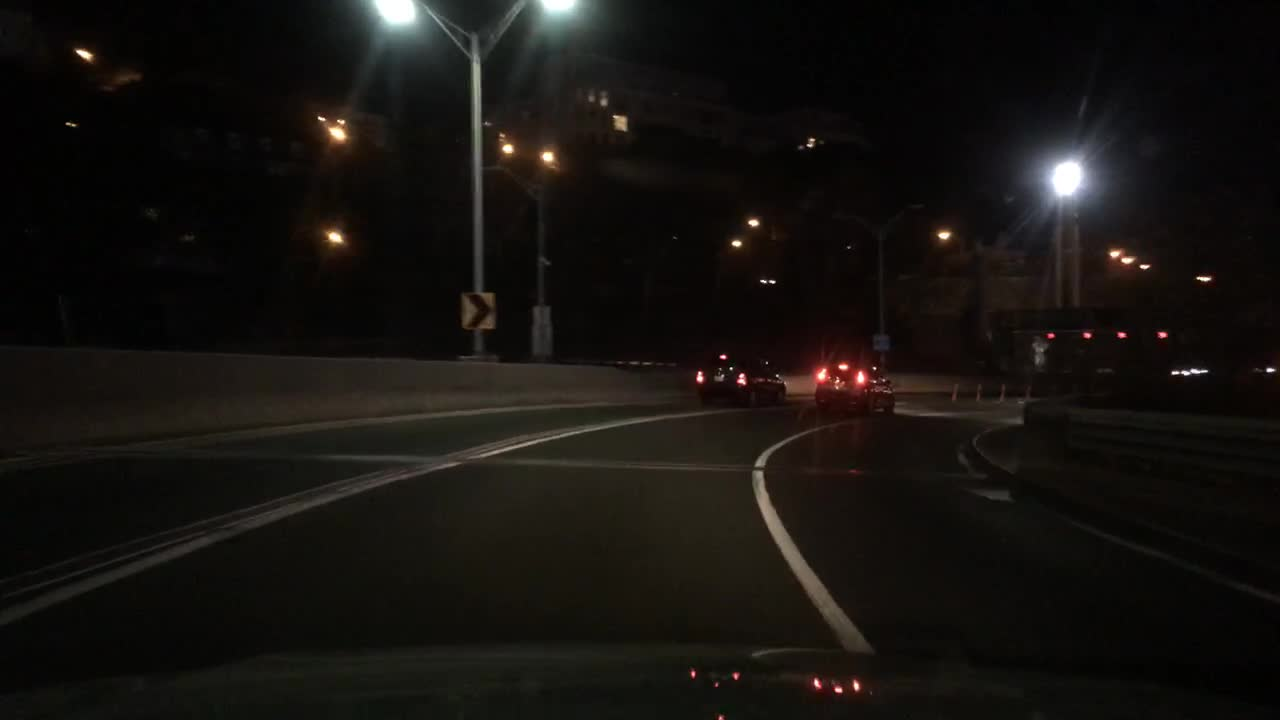car: (692, 353, 788, 409), (812, 363, 897, 416)
traffic sign: (459, 290, 498, 330), (531, 320, 555, 360), (533, 304, 555, 324)
